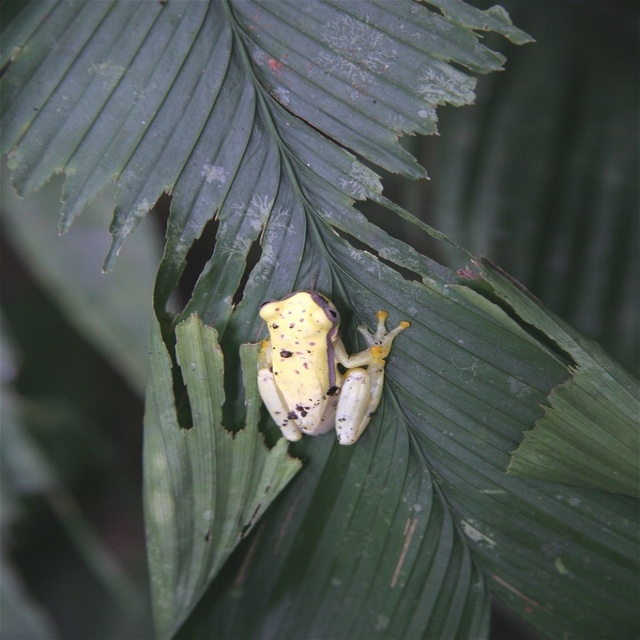Frog: (255, 289, 410, 446)
